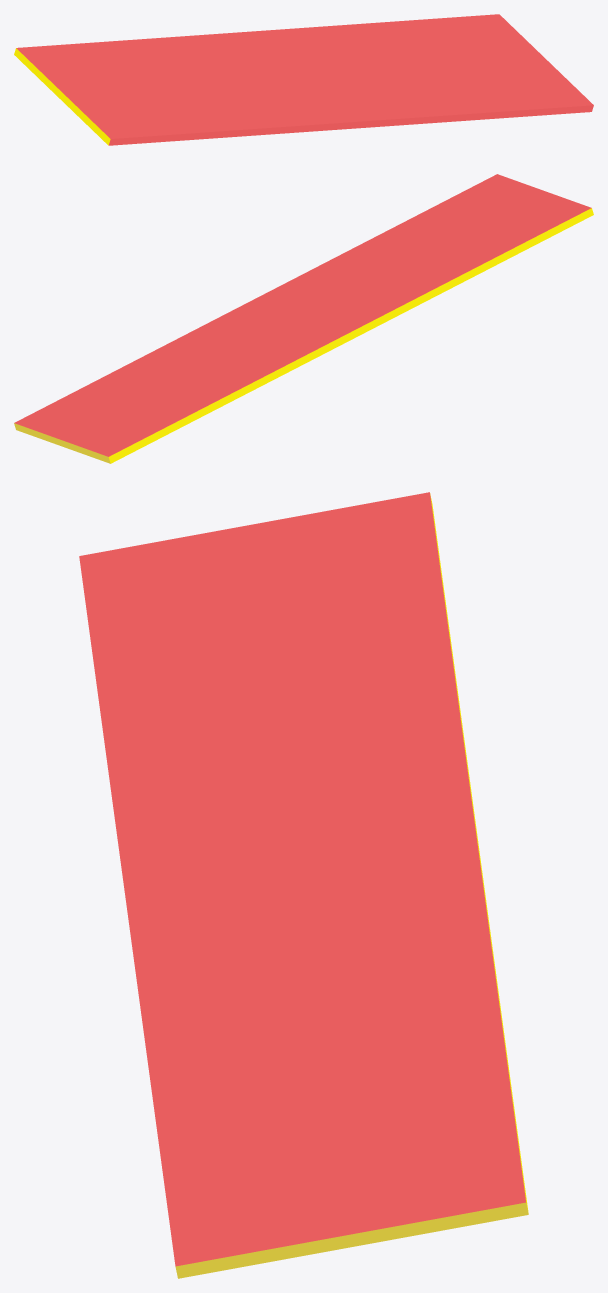
File: bar1.glb
3 renders of one model, top to bottom at view 1: azimuth 30°, elevation 25°; view 2: azimuth 210°, elevation 25°; view 3: azimuth 270°, elevation 25°, orthographic. The views are drawn at different scales.
Visible parts, largest first — view 1: yellow_board; view 2: yellow_board; view 3: yellow_board.
Boxes of the visible parts, x1,y1,x2,y2 form: yellow_board: (14, 14, 593, 145); yellow_board: (14, 174, 593, 463); yellow_board: (79, 492, 528, 1278).
Size of the model in its own units: 6.68 by 1.77 by 2.52.
